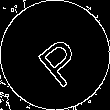P_NW: (24, 24, 86, 86)
